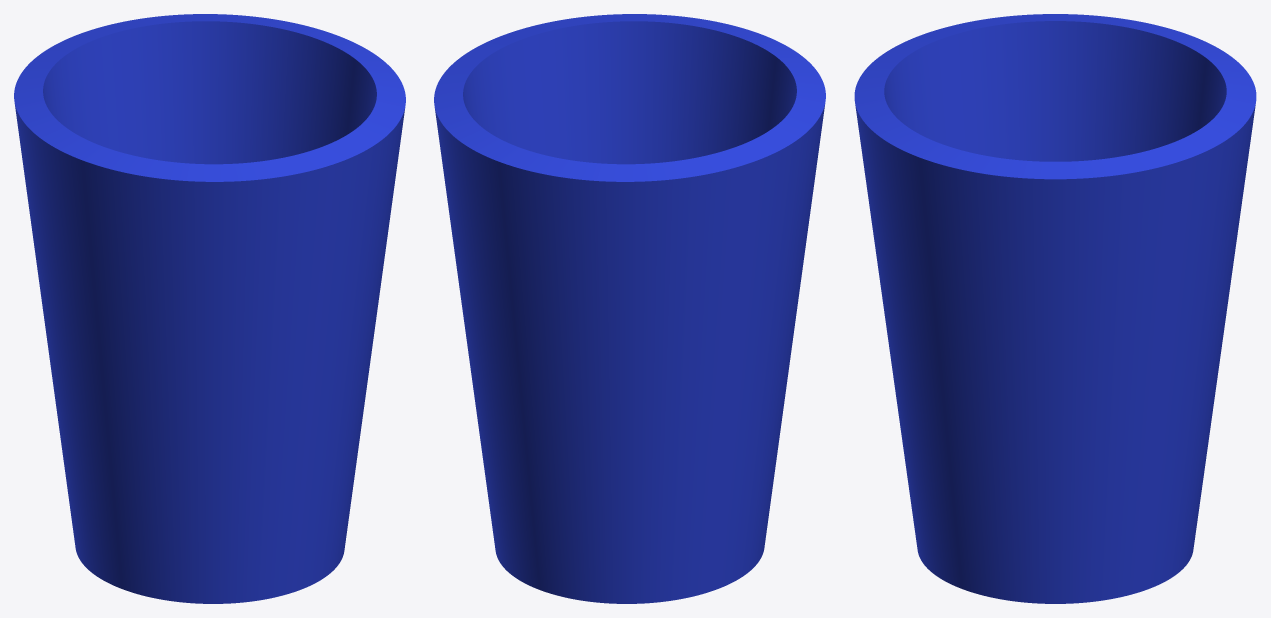
File: bin_final.dae
The picture shows the model from 3 angles, left to right: view 1: azimuth 30°, elevation 25°; view 2: azimuth 150°, elevation 25°; view 3: azimuth 270°, elevation 25°; orthographic projection.
Parts seen in each view (by area): view 1: Cylinder; view 2: Cylinder; view 3: Cylinder.
Part boxes in pixels (x1=…): Cylinder: x1=14, y1=14, x2=405, y2=603; Cylinder: x1=434, y1=14, x2=825, y2=603; Cylinder: x1=854, y1=14, x2=1256, y2=603.
Size of the model in its own units: 0.5963 by 0.6129 by 0.7668.
